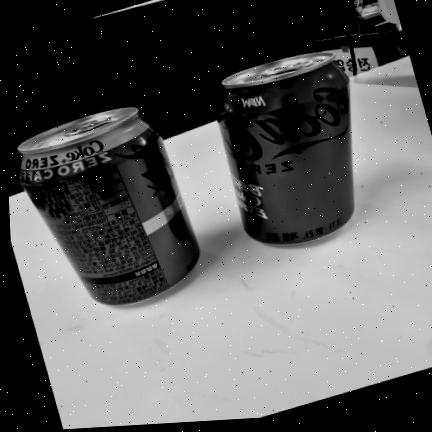can_coke_decaf: (20, 110, 208, 307)
can_coke_zero: (219, 56, 363, 245)
